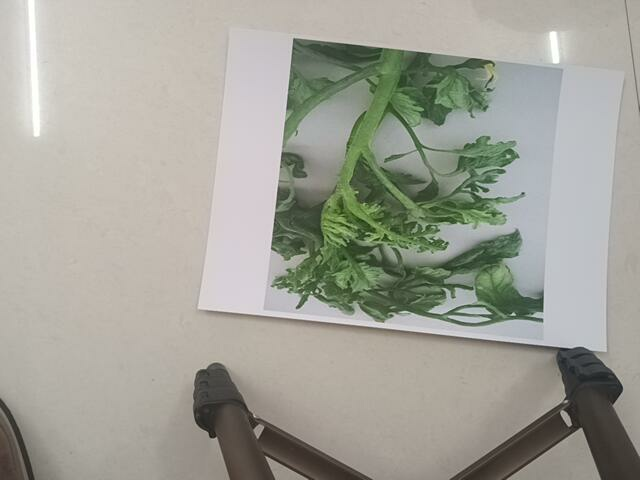Tomamto_Mosaic_virus: (278, 44, 554, 329)
